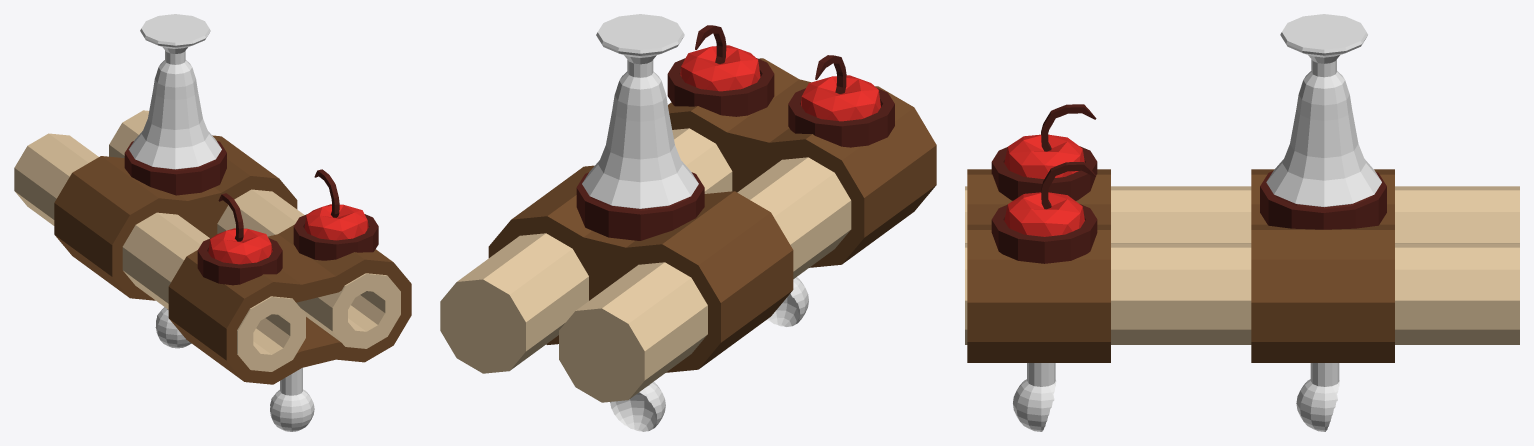
The model's file is Teste_Arma_Sorvete.fbx.
The picture shows the model from 3 angles, left to right: view 1: azimuth 30°, elevation 25°; view 2: azimuth 150°, elevation 25°; view 3: azimuth 270°, elevation 25°; orthographic projection. The views are drawn at different scales.
Parts seen in each view (by area): view 1: corpo, copo, colheres, maca_esq, maca_dir; view 2: corpo, copo, maca_esq, maca_dir, colheres; view 3: corpo, copo, colheres, maca_esq, maca_dir.
Boxes of the visible parts, x1=… form: corpo: x1=14, y1=110, x2=411, y2=384; copo: x1=129, y1=14, x2=221, y2=170; colheres: x1=155, y1=307, x2=314, y2=431; maca_esq: x1=304, y1=169, x2=368, y2=240; maca_dir: x1=208, y1=193, x2=272, y2=264; corpo: x1=440, y1=58, x2=936, y2=402; copo: x1=582, y1=14, x2=698, y2=210; maca_esq: x1=680, y1=25, x2=760, y2=91; maca_dir: x1=801, y1=55, x2=880, y2=121; colheres: x1=610, y1=277, x2=808, y2=431; corpo: x1=965, y1=146, x2=1519, y2=362; copo: x1=1266, y1=14, x2=1381, y2=209; colheres: x1=1013, y1=363, x2=1339, y2=431; maca_esq: x1=1004, y1=162, x2=1095, y2=236; maca_dir: x1=1004, y1=104, x2=1096, y2=178.
Size of the model in its own units: 205 by 337 by 428.
